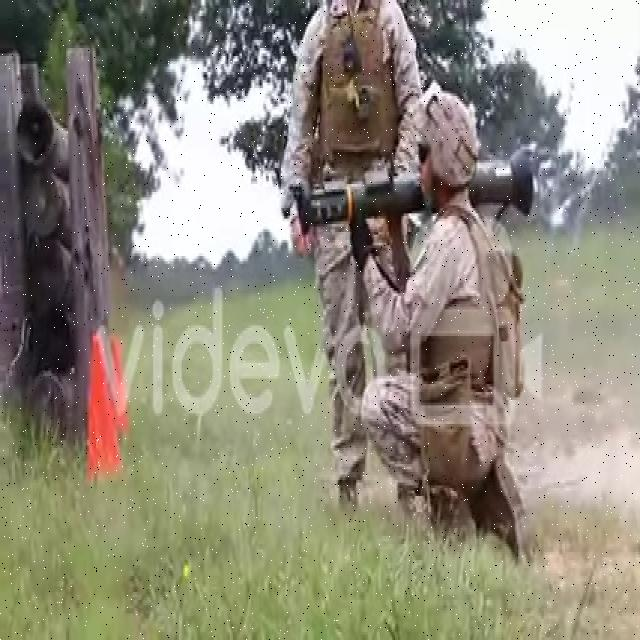bazooka: (293, 143, 537, 240)
